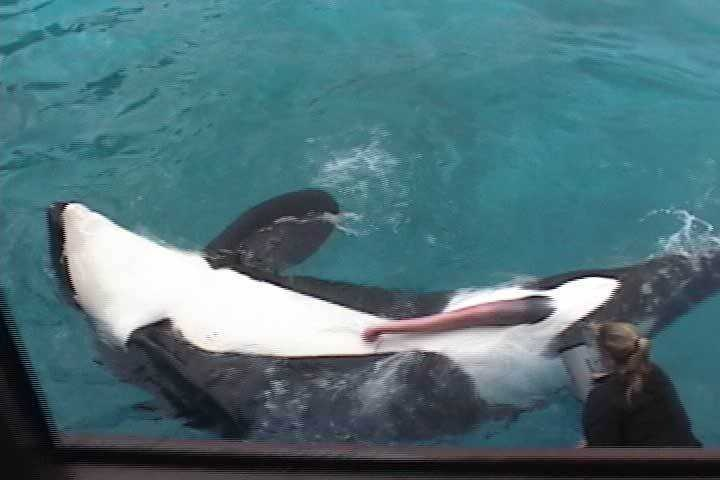fish: (38, 189, 714, 433)
